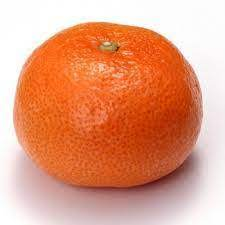orange: (14, 17, 206, 193)
